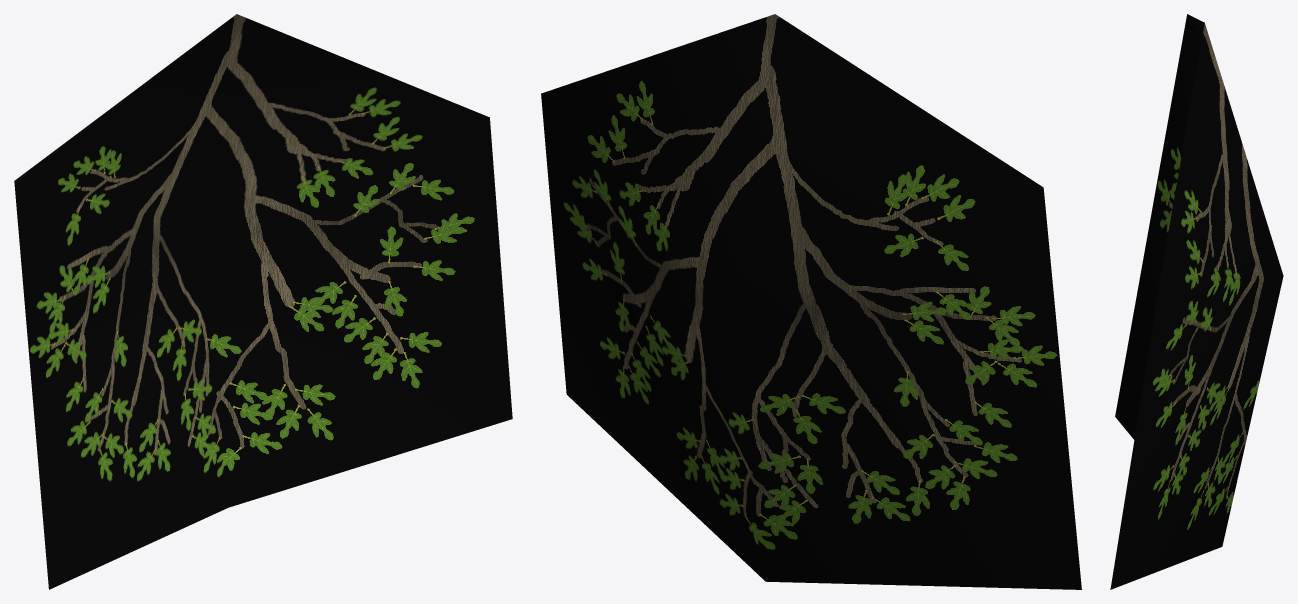
File: LeafMesh18.fbx
The picture shows the model from 3 angles, left to right: view 1: azimuth 30°, elevation 25°; view 2: azimuth 150°, elevation 25°; view 3: azimuth 270°, elevation 25°; orthographic projection. The views are drawn at different scales.
Parts seen in each view (by area): view 1: LeafMesh1; view 2: LeafMesh1; view 3: LeafMesh1.
Boxes of the visible parts, <box> form: LeafMesh1: <box>14,14,512,589</box>; LeafMesh1: <box>541,14,1081,589</box>; LeafMesh1: <box>1110,14,1283,589</box>.
Bounding box in the file's own units: 2 × 2.07 × 0.6195.
